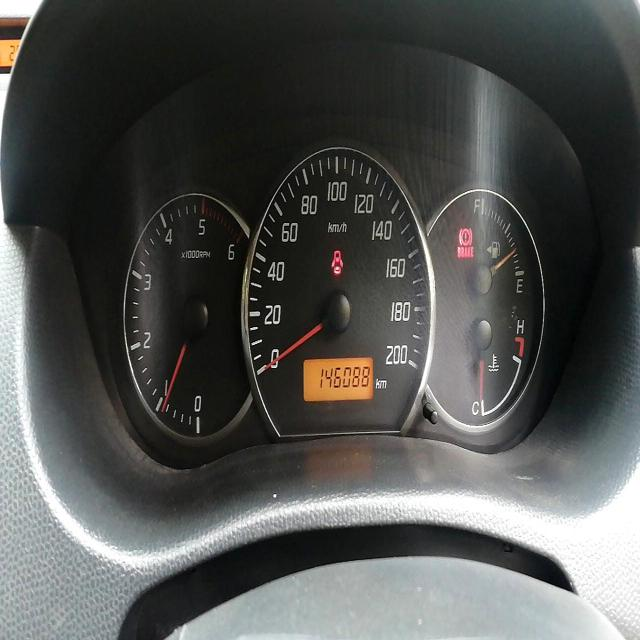odometer: (317, 361, 372, 392)
